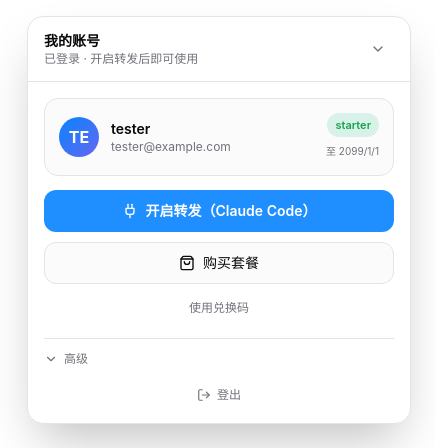
Test: LlmGatewaySubscriptionDock 购买套餐 › 进购买屏前先对账，已开通的人看得到当前套餐而不是空白
What coordinates should you click on to do the following:
click the button "购买套餐"
I would click on:
 (219, 263)
Its box is [44, 242, 394, 284].
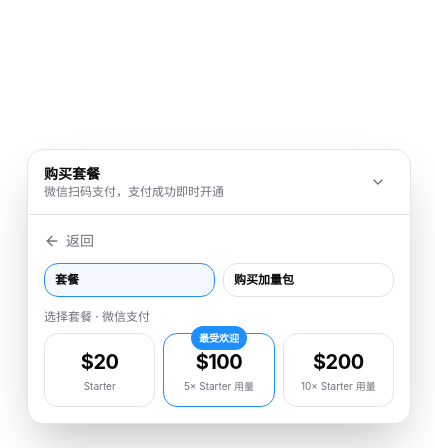
Check: the text "$20" is shown, box [81, 350, 118, 374]
